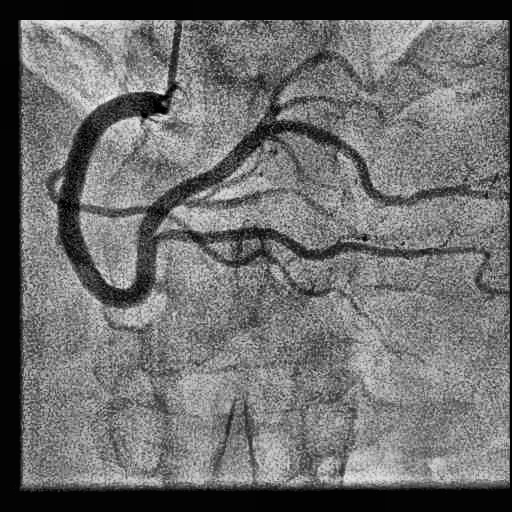pborca: (139, 119, 468, 238)
pda: (153, 227, 501, 294)
rca: (57, 92, 156, 308)
